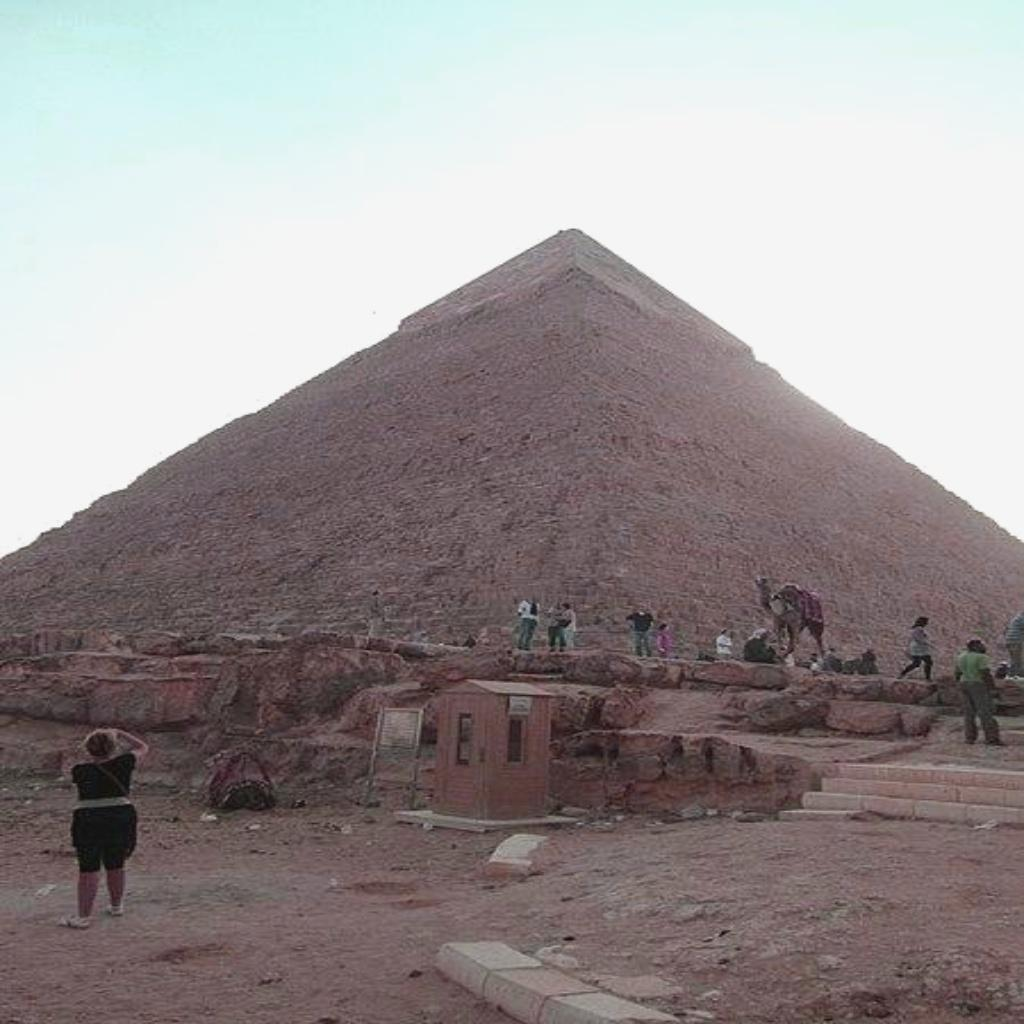Great Pyramids of Giza: (2, 224, 1020, 676)
